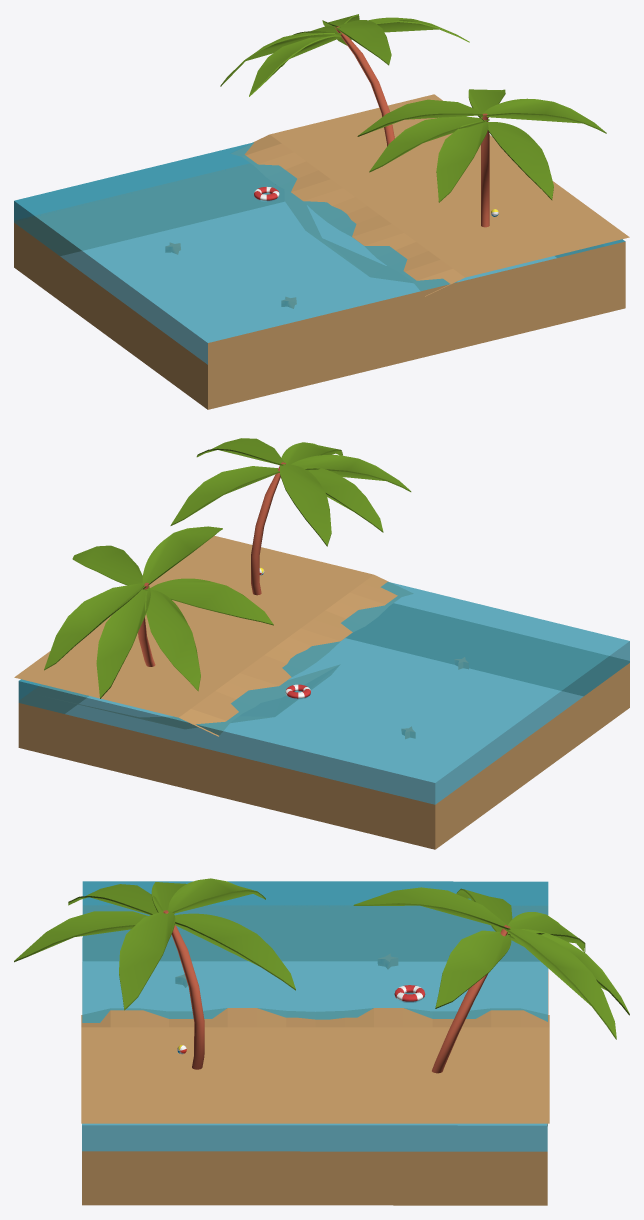
The model's file is beachside.glb.
3 renders of one model, top to bottom at view 1: azimuth 30°, elevation 25°; view 2: azimuth 150°, elevation 25°; view 3: azimuth 270°, elevation 25°, orthographic. The views are drawn at different scales.
Visible parts, largest first — view 1: beach, Plane, Plane.001; view 2: beach, Plane, Plane.001; view 3: beach, Plane, Plane.001.
Boxes of the visible parts, x1=… form: beach: x1=14, y1=14, x2=625, y2=409; Plane: x1=270, y1=94, x2=629, y2=277; Plane.001: x1=232, y1=134, x2=464, y2=296; beach: x1=18, y1=438, x2=629, y2=849; Plane: x1=14, y1=535, x2=373, y2=717; Plane.001: x1=179, y1=575, x2=412, y2=736; beach: x1=14, y1=878, x2=629, y2=1205; Plane: x1=81, y1=1027, x2=549, y2=1123; Plane.001: x1=81, y1=1008, x2=549, y2=1027.
Size of the model in its own units: 244 by 111 by 257.
